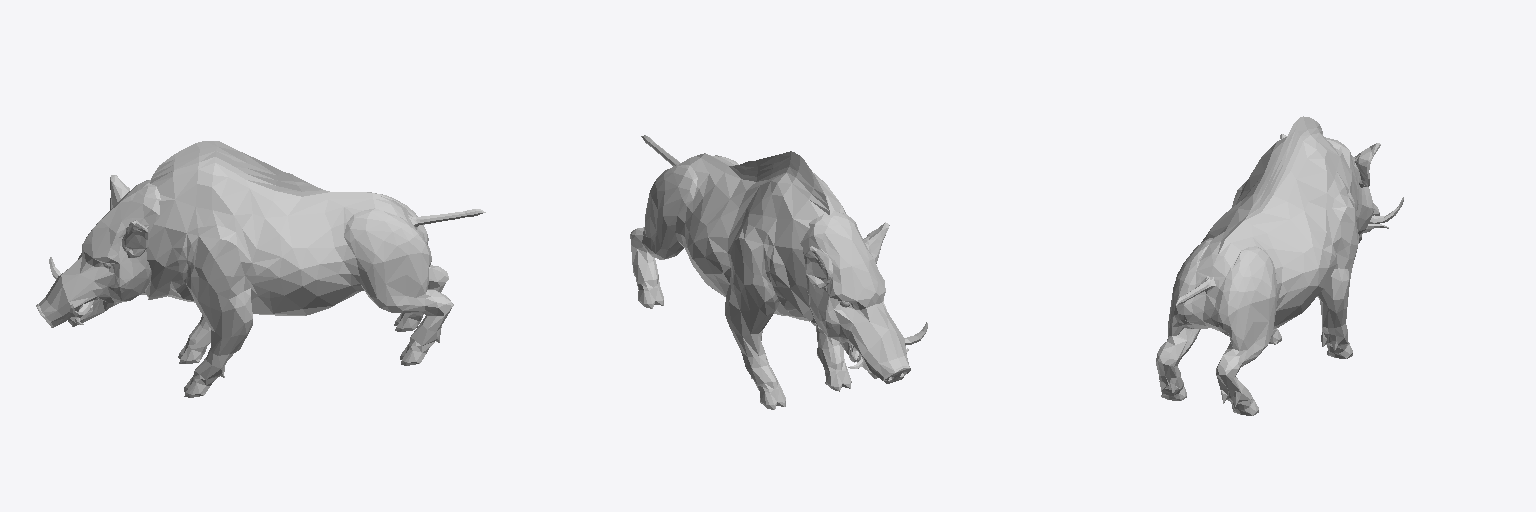
File: Babi Hutan.obj
The picture shows the model from 3 angles: view 1: azimuth 30°, elevation 25°; view 2: azimuth 150°, elevation 25°; view 3: azimuth 270°, elevation 25°; orthographic projection.
Parts seen in each view (by area): view 1: BoarBody, BoarHead_0; view 2: BoarBody, BoarHead_0; view 3: BoarBody, BoarHead_0.
Part boxes in pixels (left/top/right/bottom): BoarBody: left=145, top=141, right=485, bottom=397; BoarHead_0: left=36, top=175, right=160, bottom=327; BoarBody: left=630, top=135, right=851, bottom=409; BoarHead_0: left=800, top=211, right=927, bottom=383; BoarBody: left=1156, top=116, right=1358, bottom=415; BoarHead_0: left=1280, top=134, right=1403, bottom=242.
Size of the model in its own units: 117 by 73.44 by 70.09.